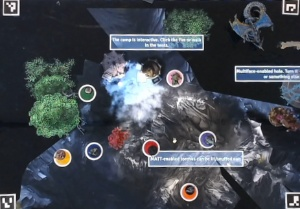blue: (83, 139, 104, 162)
green: (76, 82, 98, 103)
orange: (177, 182, 199, 202)
pink: (164, 68, 184, 88)
red: (140, 137, 162, 156)
violet: (197, 130, 217, 151)
yellow: (52, 147, 74, 168)
